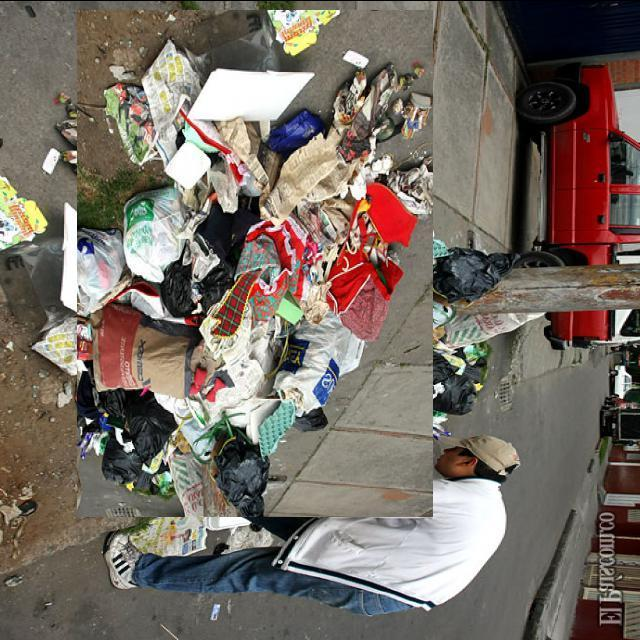Trashbag: (106, 414, 174, 499), (212, 428, 274, 518), (157, 249, 235, 320), (436, 246, 516, 302), (430, 350, 483, 424)
